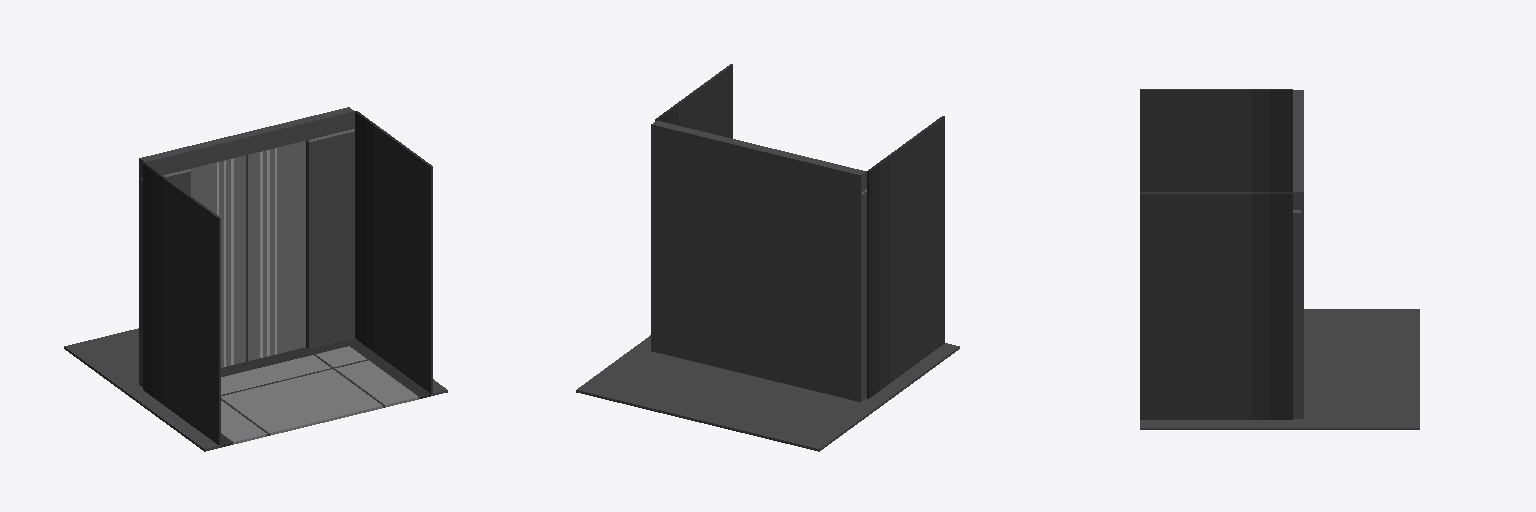
3 renders of one model, left to right at view 1: azimuth 30°, elevation 25°; view 2: azimuth 150°, elevation 25°; view 3: azimuth 270°, elevation 25°, orthographic.
Parts seen in each view (by area): view 1: object 1; view 2: object 1; view 3: object 1.
Boxes of the visible parts, x1=… form: object 1: x1=64, y1=107, x2=447, y2=451; object 1: x1=576, y1=64, x2=959, y2=451; object 1: x1=1140, y1=89, x2=1419, y2=429.
Size of the model in its own units: 10.1 by 9.1 by 10.1.
Materials: 1 (1 with a texture image).